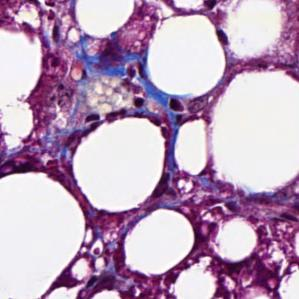inflammation: (119, 57, 148, 96), (204, 196, 243, 217), (164, 91, 191, 116)
